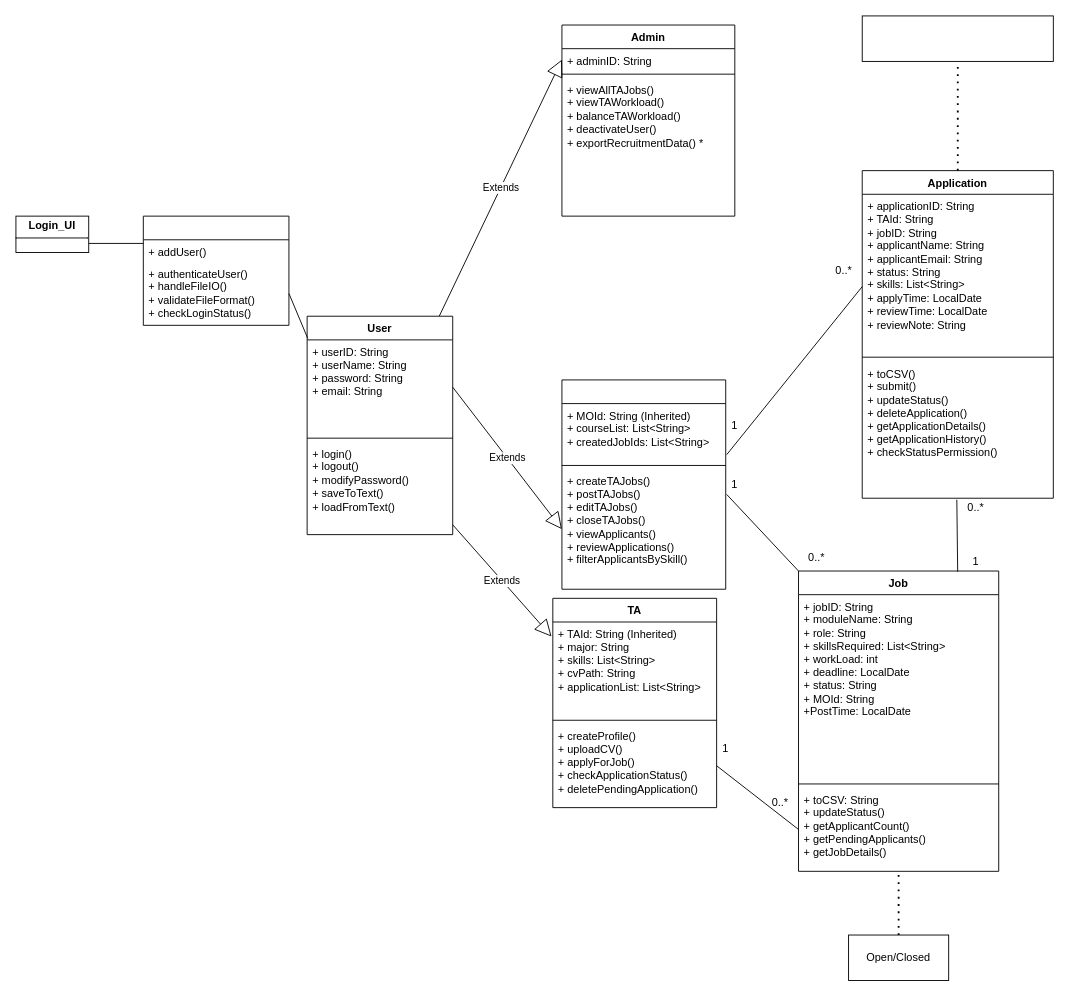
This 1069x996 diagram has some shape labels left out. Here are the shapes that lost their labels. From the top down, the box of each, then its label:
(861, 15, 1053, 61): Pending/Accepted/Rejected
(142, 215, 289, 325): System_Control
(561, 379, 726, 589): MO
